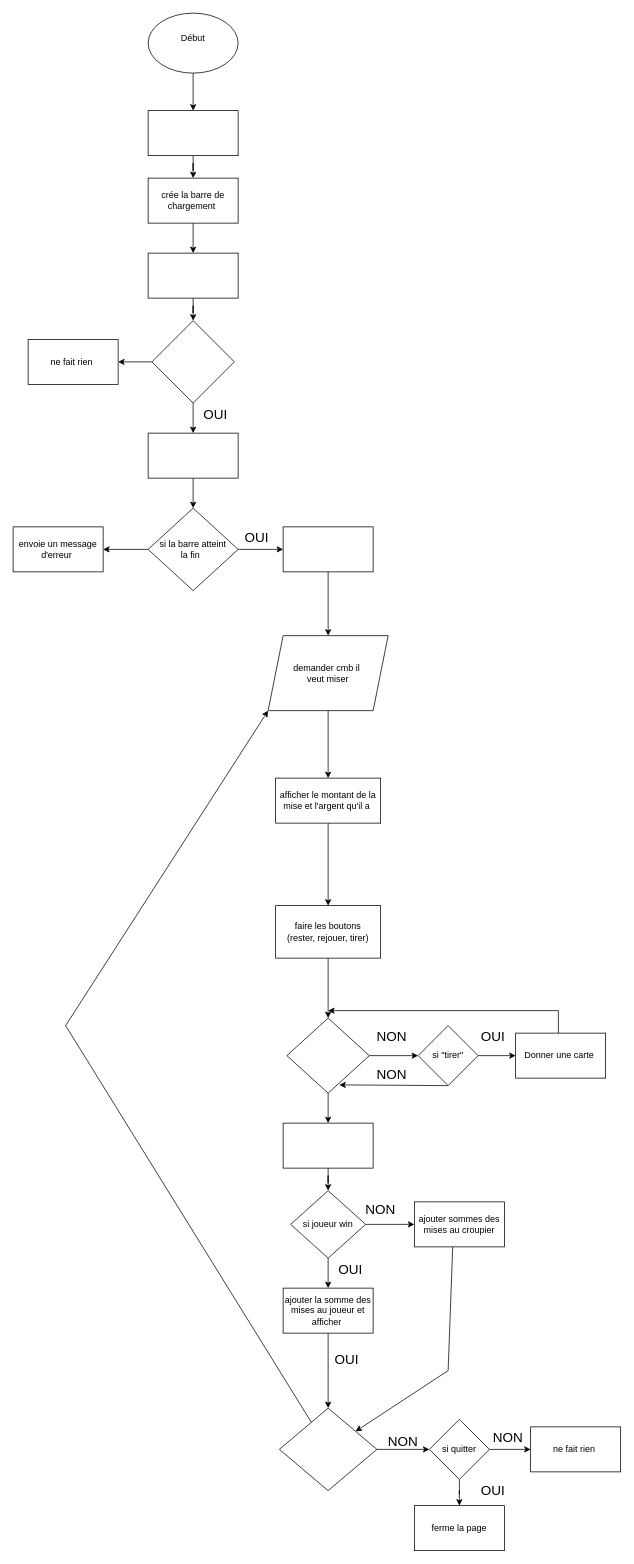
This 634x1564 diagram has some shape labels left out. Here are the shapes that lost their labels. From the top down, the centre of each, then its label:
[192,133]: initialisation de la page
[192,275]: crée le bouton "jouer"
[192,361]: si le bouton est activé
[192,455]: lancé la barre de chargement
[327,549]: renouvelle la page avec le jeu
[327,1055]: si "rester"
[327,1145]: afficher qui a gagné
[328,1449]: si rejouer
